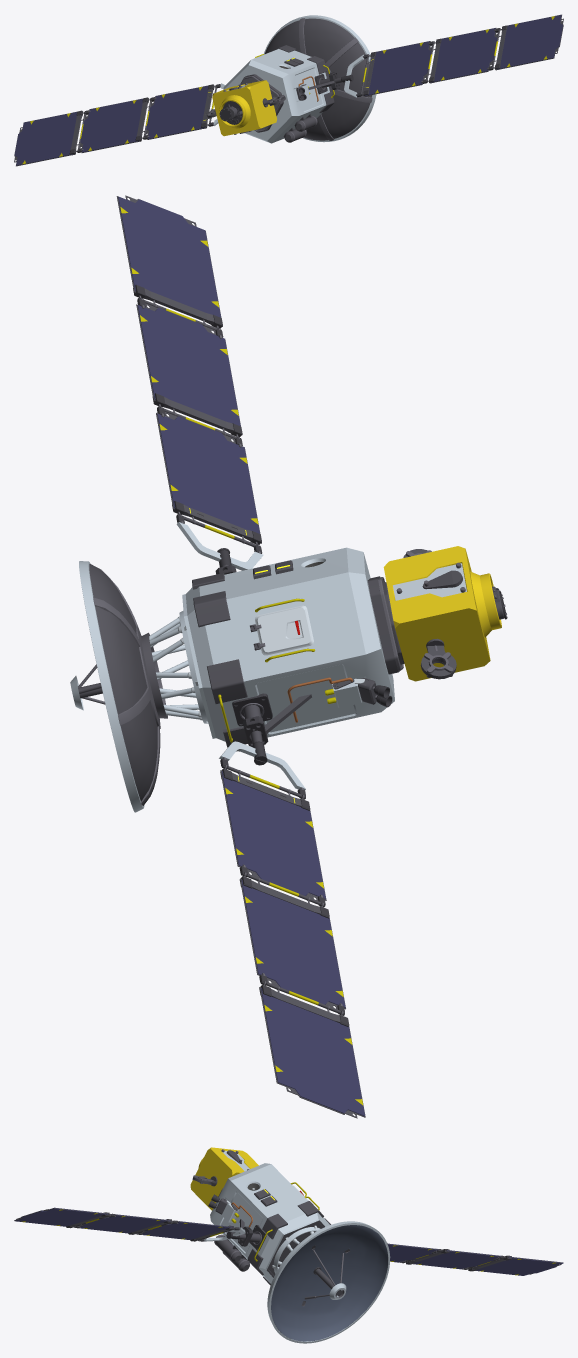
File: satellite-transformed.glb
3 views of the same model, one above another, from view 1: azimuth 30°, elevation 25°; view 2: azimuth 150°, elevation 25°; view 3: azimuth 270°, elevation 25° (orthographic). The views are drawn at different scales.
Parts seen in each view (by area): view 1: polySurface22 (×2), polySurface21 (×2), pCube86, polySurface6 (×2), pCylinder193, pCube162, pCylinder75, pCylinder43 (×2), pCylinder147, pCube148, pCylinder78, pCylinder30 (+2 smaller); view 2: pCylinder193, polySurface22 (×2), polySurface21 (×2), polySurface6 (×2), pCube162, pCube86, pCylinder75, pCube104, pCylinder180; view 3: pCube86, pCylinder193, polySurface22 (×2), polySurface21 (×2), pCube162, polySurface6 (×2), pCylinder75, pCylinder234, pCylinder63, pCylinder72, pCylinder43.
Boxes of the visible parts, x1,y1,x2,y2 form: polySurface22 (×2): (14, 15, 562, 165); polySurface21 (×2): (80, 28, 496, 152); pCube86: (265, 18, 372, 140); polySurface6 (×2): (146, 41, 431, 139); pCylinder193: (223, 49, 329, 143); pCube162: (212, 80, 276, 136); pCylinder75: (264, 15, 376, 142); pCylinder43 (×2): (284, 116, 317, 142); pCylinder147: (222, 95, 250, 128); pCube148: (240, 76, 280, 132); pCylinder78: (325, 37, 358, 67); pCylinder30: (219, 98, 246, 127); pCylinder193: (185, 547, 394, 741); polySurface22 (×2): (118, 196, 364, 1116); polySurface21 (×2): (137, 305, 345, 1007); polySurface6 (×2): (157, 413, 325, 899); pCube162: (383, 546, 490, 681); pCube86: (89, 564, 157, 805); pCylinder75: (79, 561, 144, 812); pCube104: (255, 605, 313, 655); pCylinder180: (207, 659, 247, 703); pCube86: (271, 1225, 388, 1341); pCylinder193: (210, 1163, 329, 1283); polySurface22 (×2): (15, 1207, 563, 1275); polySurface21 (×2): (80, 1214, 500, 1269); pCube162: (190, 1147, 258, 1210); polySurface6 (×2): (142, 1221, 438, 1262); pCylinder75: (267, 1221, 390, 1343); pCylinder234: (265, 1219, 324, 1277); pCylinder63: (273, 1227, 320, 1273); pCylinder72: (262, 1214, 287, 1239); pCylinder43: (214, 1234, 241, 1262).
Bounding box in the file's own units: 54.4 × 34.81 × 69.48.
